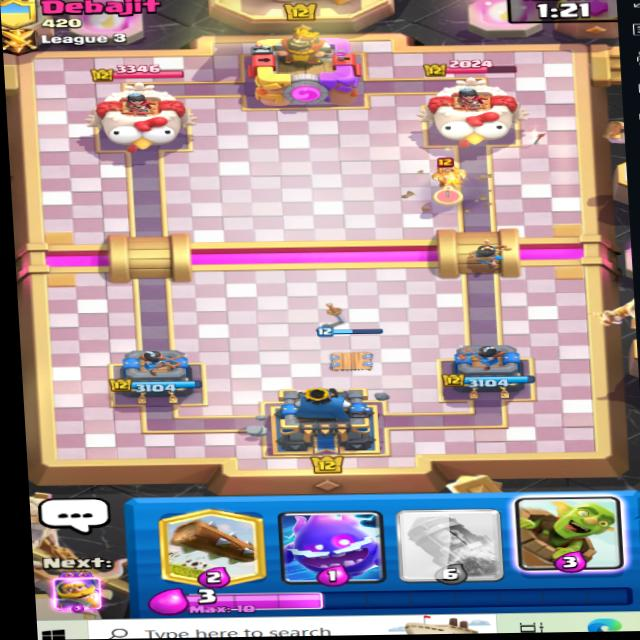wizard: (421, 151, 476, 198)
